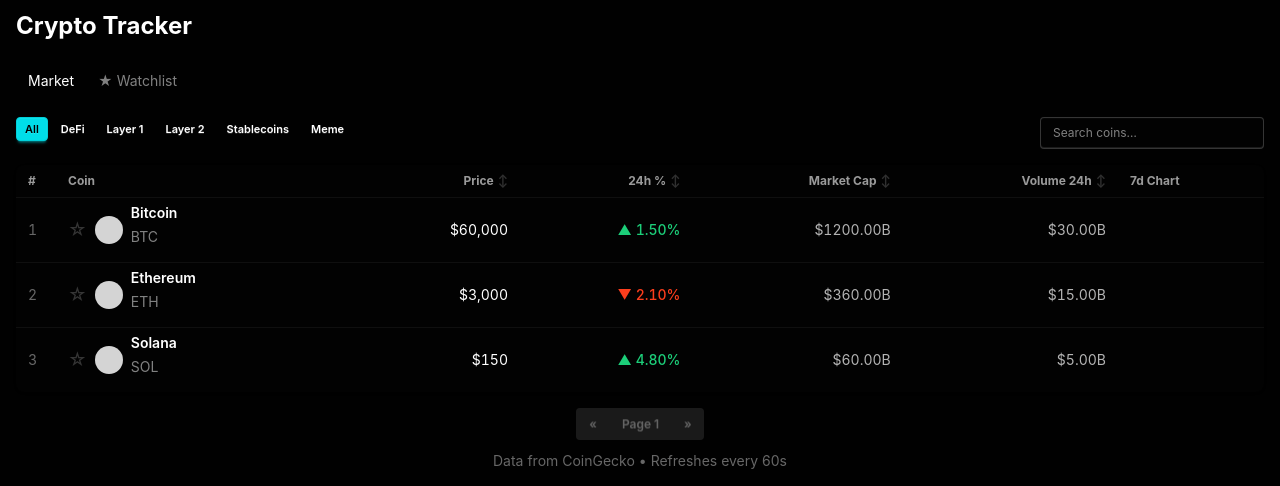
search filtering › filters by symbol (case-insensitive)
Type "ETH" into the search field at x=1152, y=133, box x1=1040 y1=117 x2=1264 y2=149
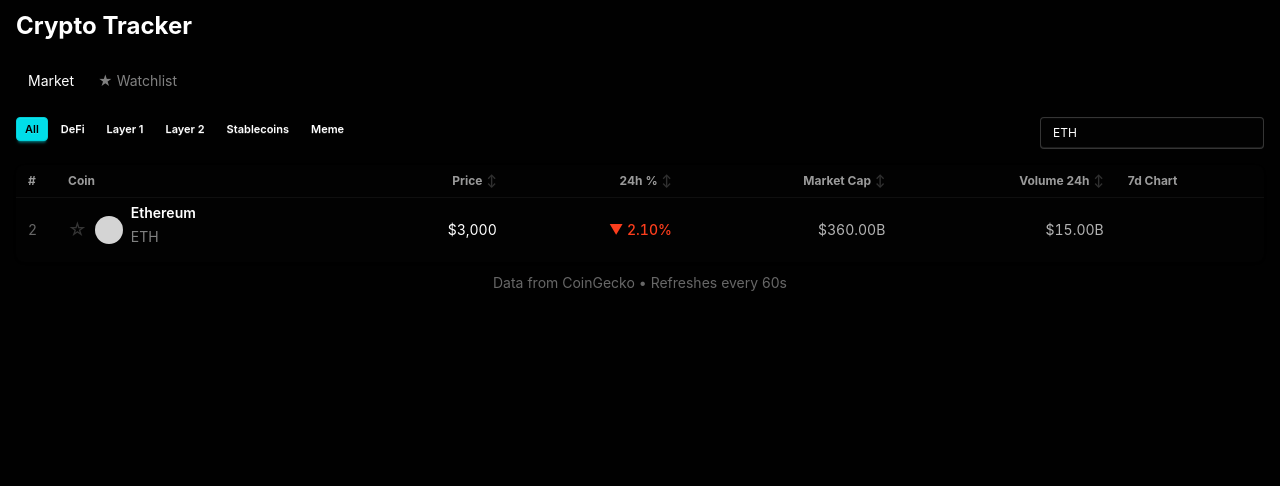
Expected: the text "Ethereum" is shown, x1=131 y1=206 x2=196 y2=220
Result: the link "Bitcoin" is gone
